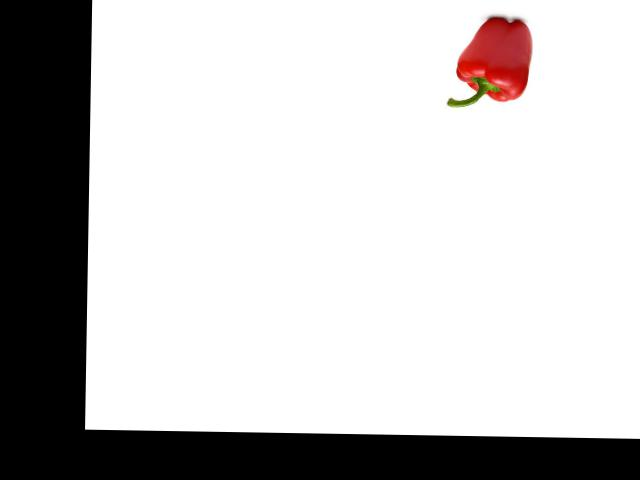bell_pepper: (444, 10, 537, 113)
